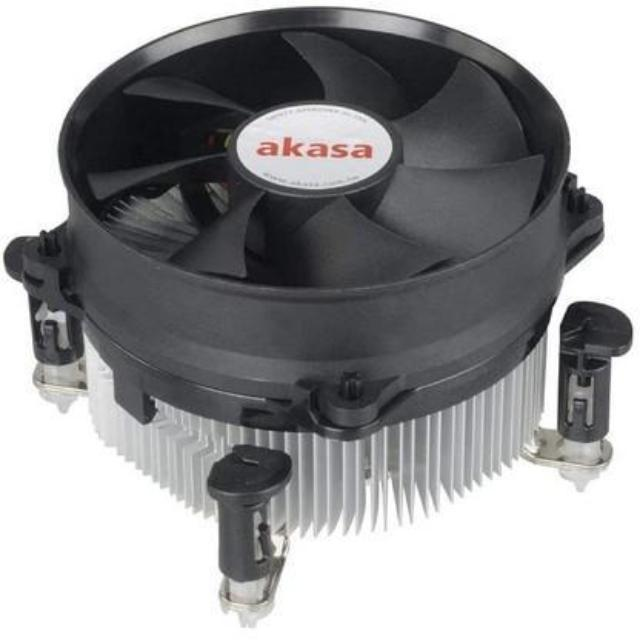CPU_Fan: (0, 6, 640, 614)
